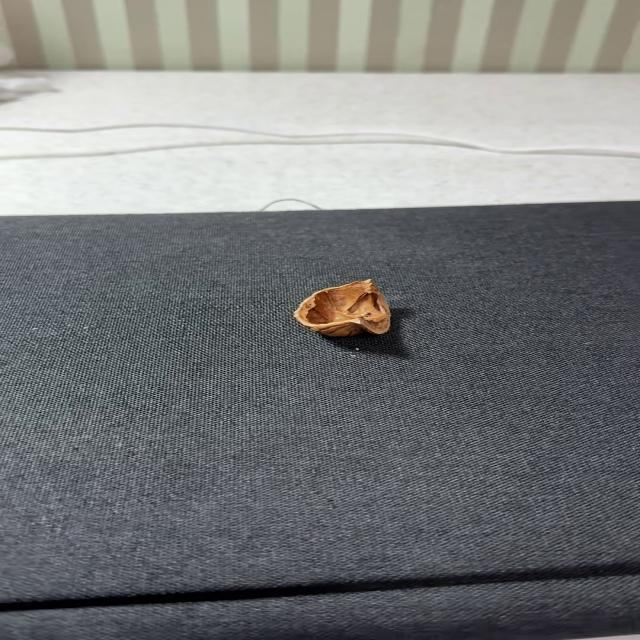nuts-bad0.25: (295, 279, 391, 337)
